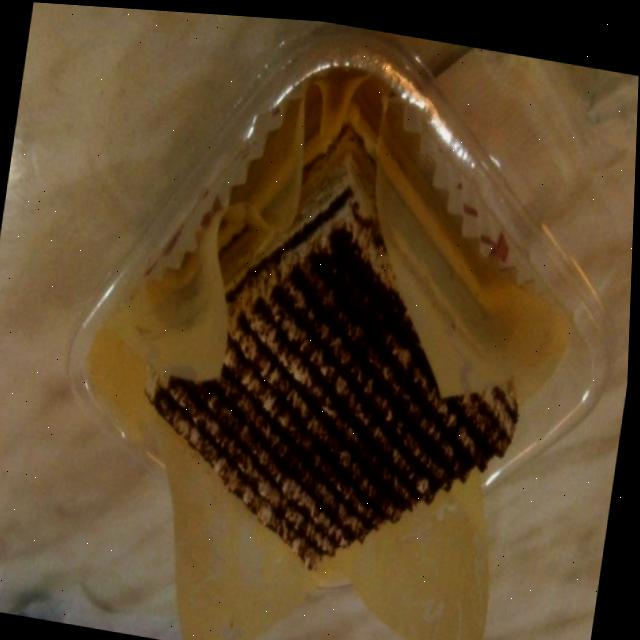蛋糕甜品: (74, 15, 589, 631)
